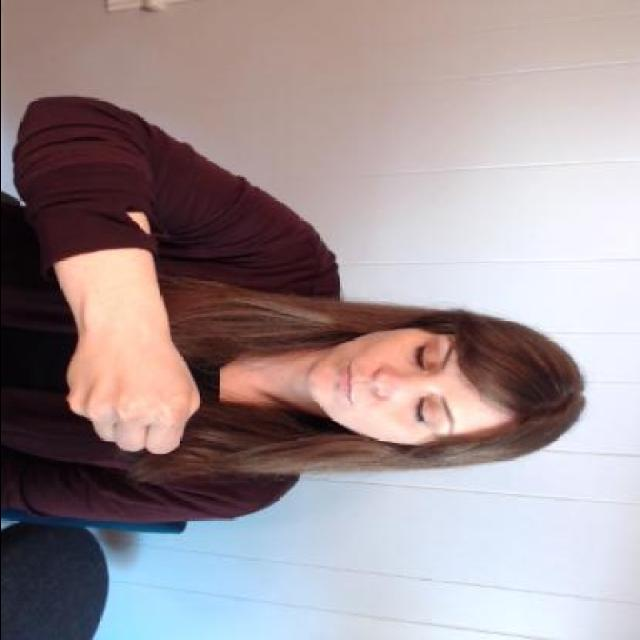Rock: (55, 326, 203, 454)
